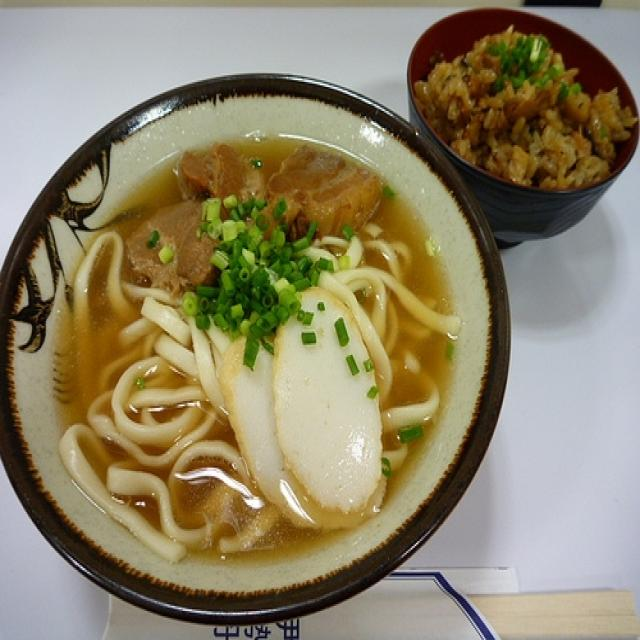面包点心: (72, 195, 488, 621)
